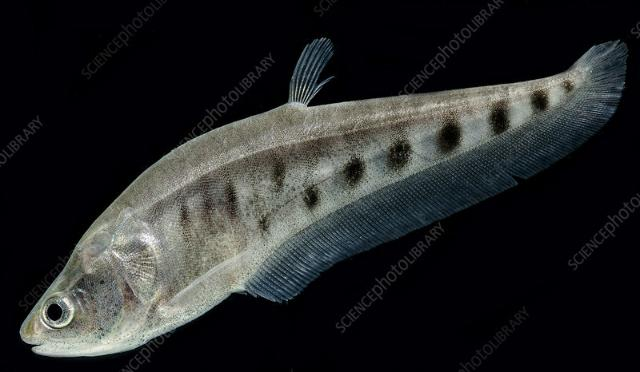Mulut: (11, 318, 103, 368)
Sirip Dada: (151, 244, 265, 330)
Sirip Punggung: (278, 29, 348, 118)
